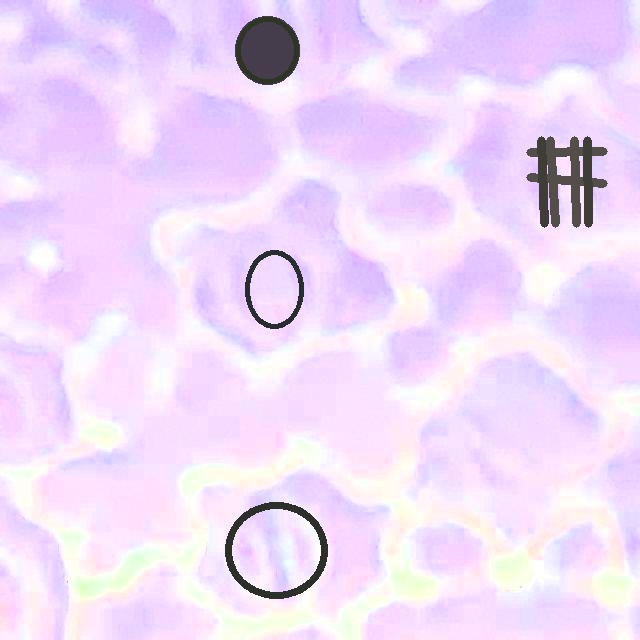open: (225, 501, 328, 599), (526, 136, 607, 227), (244, 249, 303, 328), (235, 17, 299, 83)
